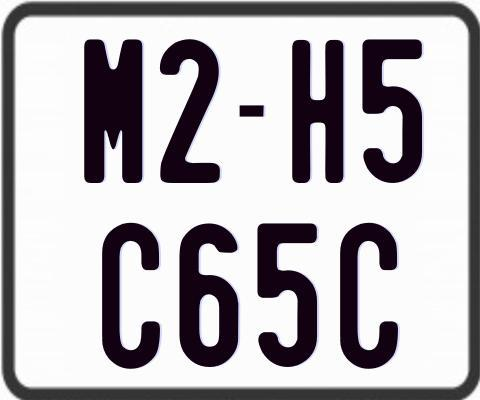2: (157, 38, 219, 186)
5: (257, 223, 320, 371), (359, 38, 419, 188)
6: (177, 220, 239, 370)
C: (337, 223, 398, 371), (100, 221, 158, 371)
H: (292, 40, 347, 183)
M: (82, 37, 143, 184)
